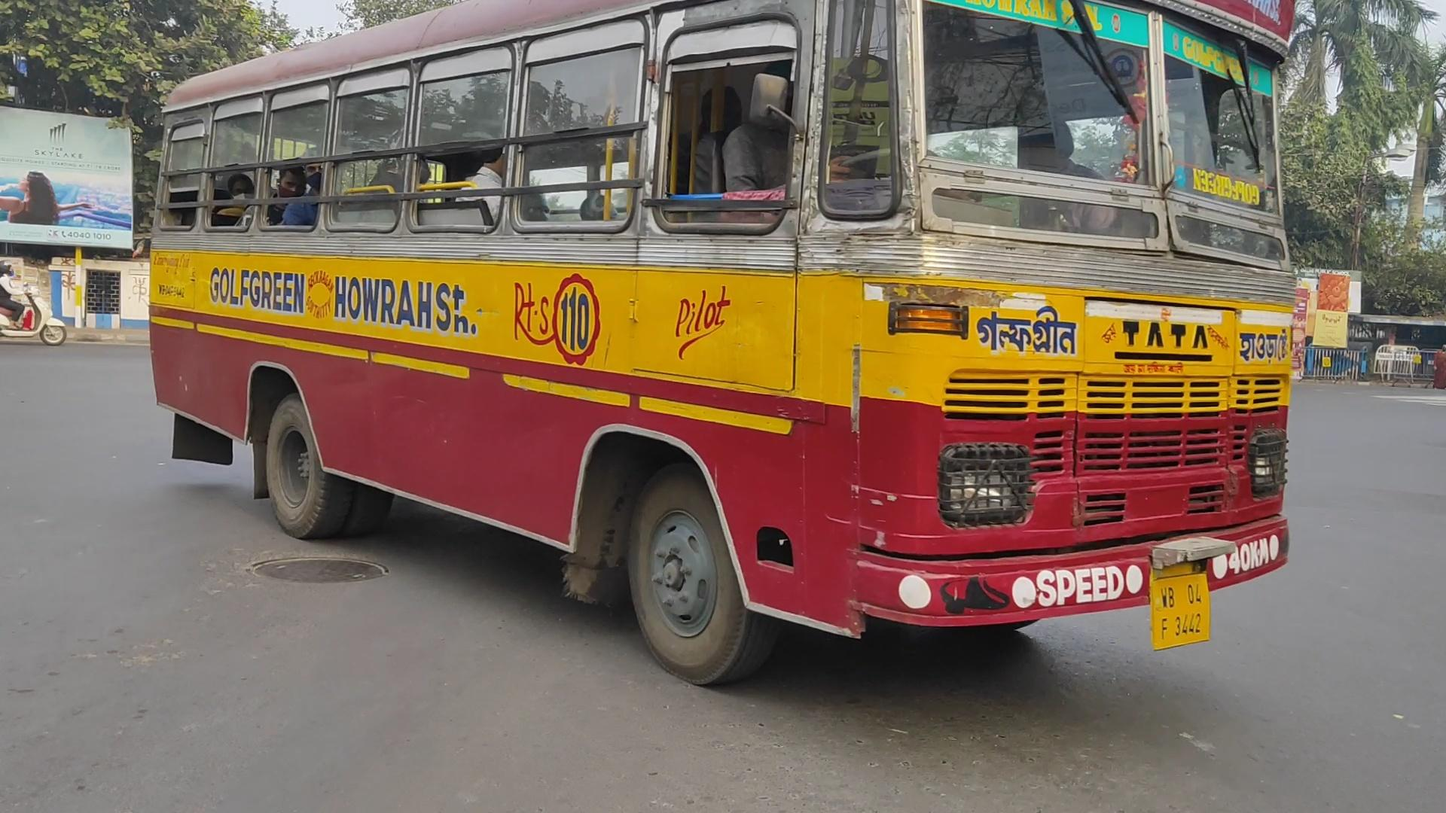Bus: (146, 1, 1297, 688)
bike: (1, 262, 66, 347)
